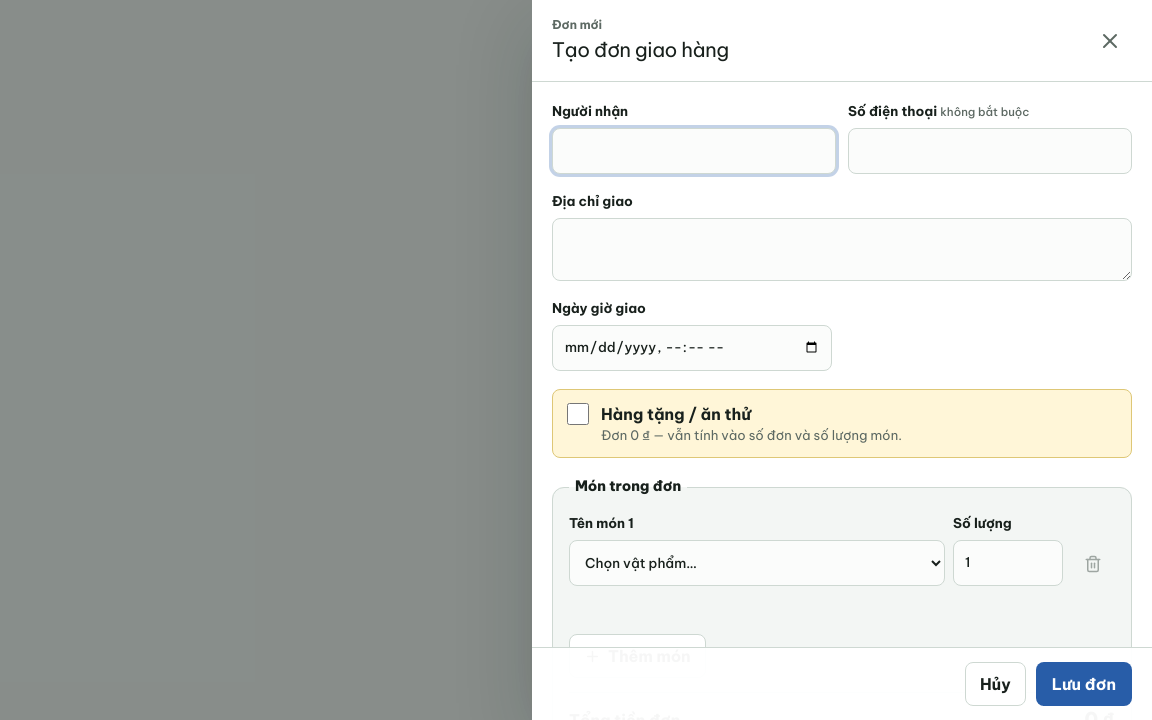
Test: OrderFormDialog › suggests addresses from previous orders and fills an empty recipient
The image size is (1152, 720).
Type "nguyen hue" into the text box labelled "Địa chỉ giao" at (842, 249), box [552,218,1132,281]
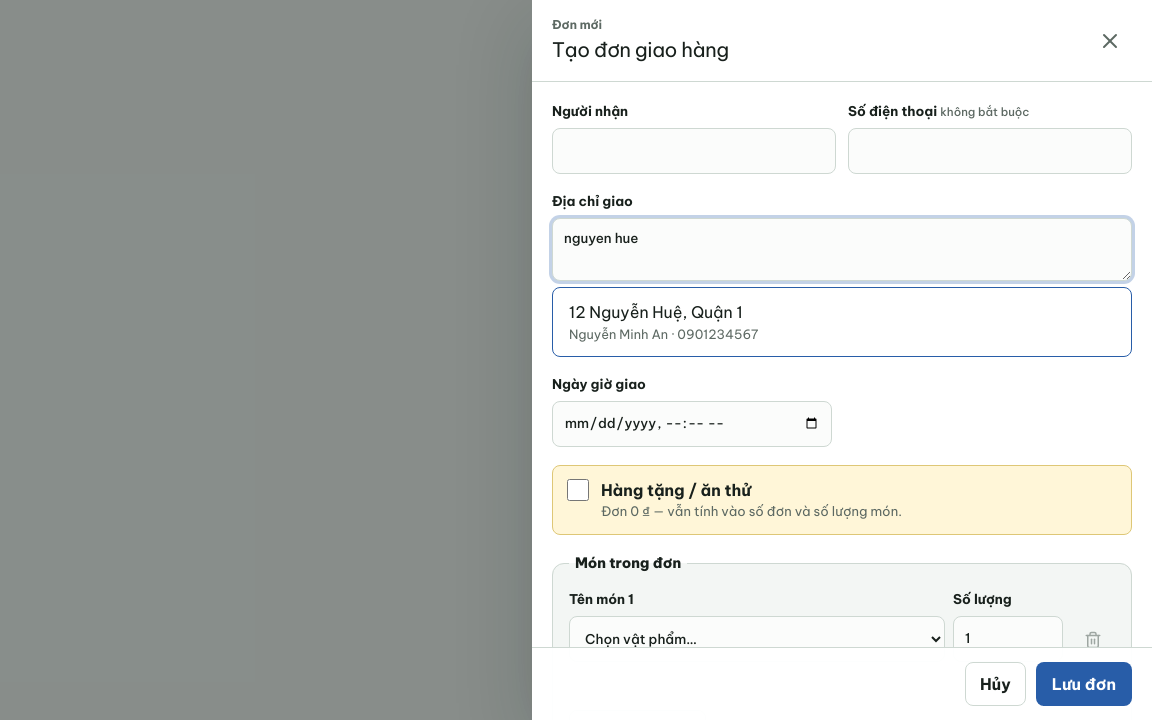
expect the list named "Gợi ý địa chỉ" shows "12 Nguyễn Huệ, Quận 1": met
expect the list named "Gợi ý địa chỉ" shows "Nguyễn Minh An · 0901234567": met, box [552,287,1132,357]
Click the button "12 Nguyễn Huệ, Quận 1 Nguyễn Minh An · 0901234567" at (656, 312), box [559,294,1125,350]
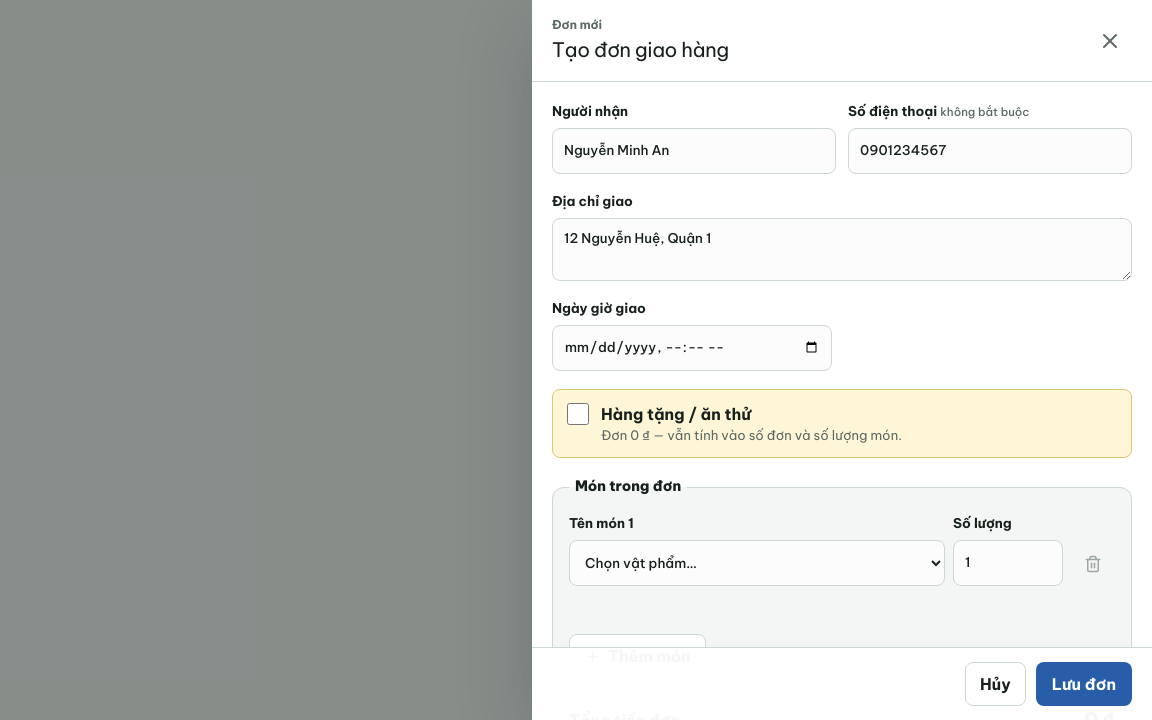
expect the text box labelled "Địa chỉ giao" holds "12 Nguyễn Huệ, Quận 1": met, box [552,218,1132,281]
expect the field labelled "Người nhận" holds "Nguyễn Minh An": met, box [552,128,836,174]
expect the field labelled "Số điện thoại" holds "0901234567": met, box [848,128,1132,174]
